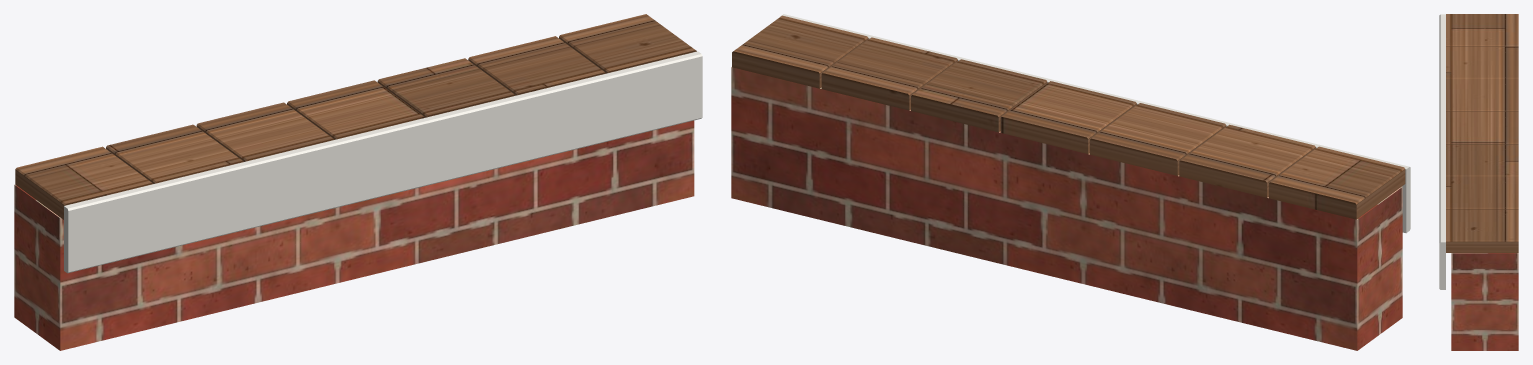
Rendered from porch_base_steps.glb.
3 views of the same model, side by side, from view 1: azimuth 30°, elevation 25°; view 2: azimuth 150°, elevation 25°; view 3: azimuth 270°, elevation 25° (orthographic). The views are drawn at different scales.
Parts seen in each view (by area): view 1: porch_base_steps_brick, porch_base_steps_trim, porch_base_steps_deck; view 2: porch_base_steps_brick, porch_base_steps_deck, porch_base_steps_trim; view 3: porch_base_steps_deck, porch_base_steps_brick, porch_base_steps_trim.
Part boxes in pixels (x1,y1,x2,y2): porch_base_steps_brick: (14, 120, 694, 350); porch_base_steps_trim: (64, 51, 702, 273); porch_base_steps_deck: (15, 14, 696, 219); porch_base_steps_brick: (731, 67, 1402, 350); porch_base_steps_deck: (732, 15, 1405, 219); porch_base_steps_trim: (780, 14, 1410, 233); porch_base_steps_deck: (1446, 14, 1518, 252); porch_base_steps_brick: (1451, 253, 1518, 350); porch_base_steps_trim: (1439, 14, 1445, 289).
Bounding box in the file's own units: 2 × 0.45 × 0.295.
3 materials, 2 textured.
